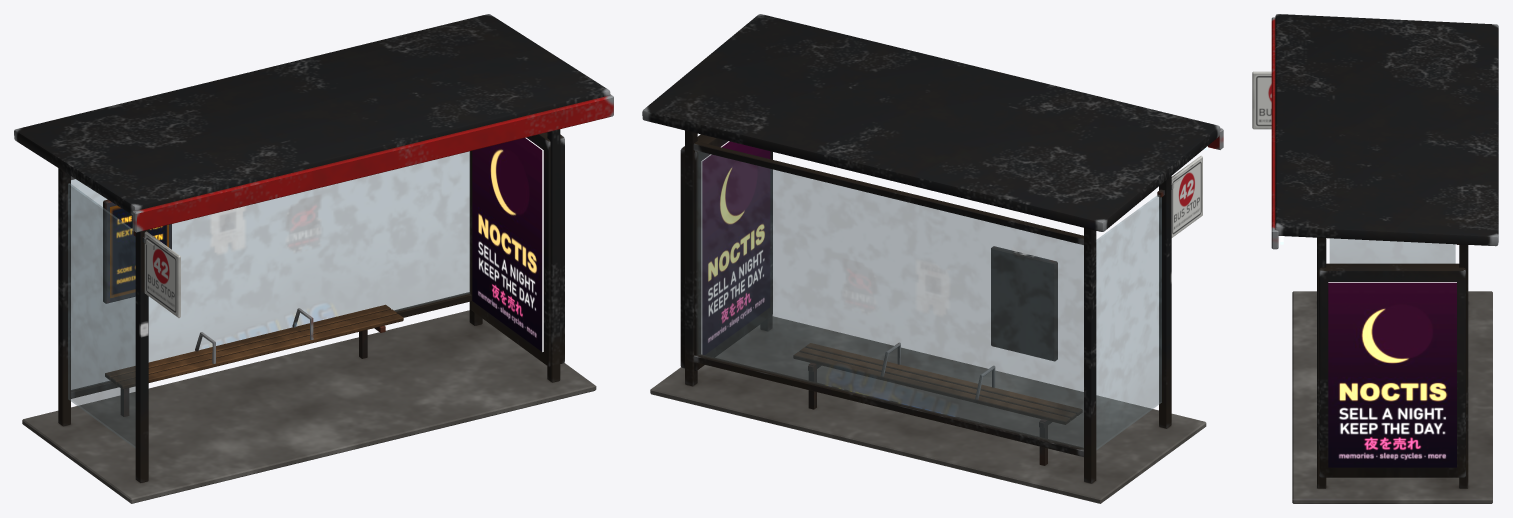
The model's file is bus_stop.glb.
The picture shows the model from 3 angles, left to right: view 1: azimuth 30°, elevation 25°; view 2: azimuth 150°, elevation 25°; view 3: azimuth 270°, elevation 25°; orthographic projection. The views are drawn at different scales.
Visible parts, largest first — view 1: bus_stop; view 2: bus_stop; view 3: bus_stop.
Boxes of the visible parts, box(x1,y1,x2,y2) form: bus_stop: box(14, 14, 613, 503); bus_stop: box(642, 14, 1223, 503); bus_stop: box(1252, 14, 1498, 503).
Size of what is drawn, in the model's own units: 4.42 by 2.7 by 2.15.
Materials: 1 (1 with a texture image).
